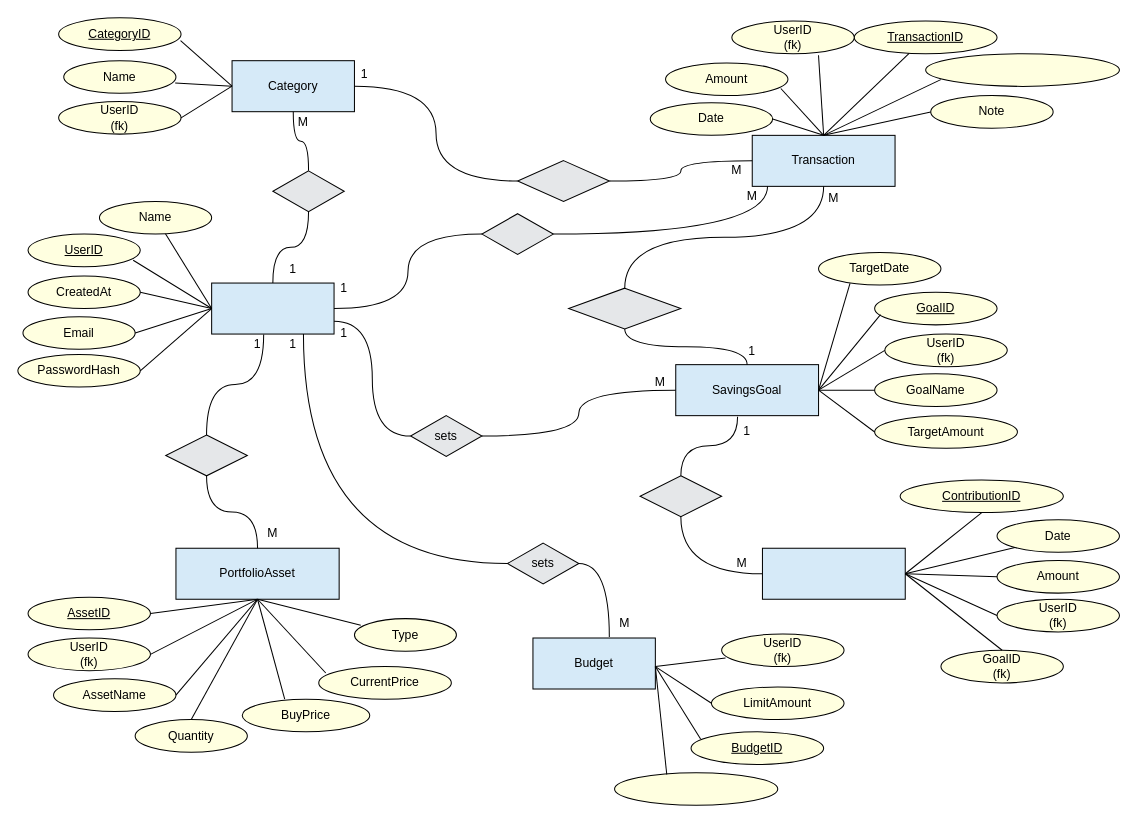
Image size: 1137x823. Some labels were removed from this diagram. Each missing label, with the box of its shape:
classifies: (517, 160, 609, 201)
contributes to: (568, 287, 681, 329)
creates: (481, 213, 553, 254)
manages: (165, 434, 247, 476)
Month (YYYY-MM): (614, 772, 778, 805)
owns: (272, 170, 344, 212)
receives: (639, 475, 722, 517)
SavingsContribution: (761, 547, 905, 599)
Type (income/expense/saving): (925, 53, 1119, 86)
User: (211, 282, 334, 334)
